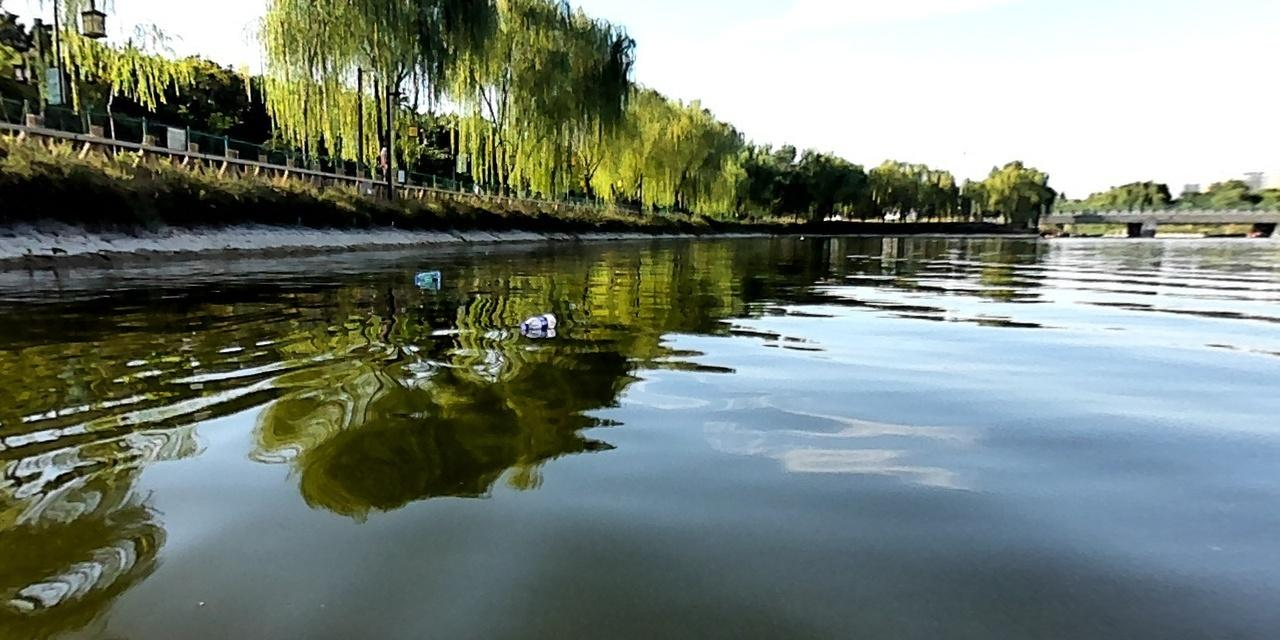bottle: (519, 309, 560, 331), (410, 268, 441, 284)
